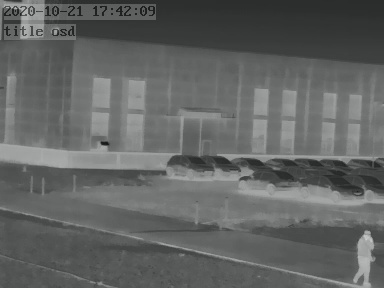person: (353, 230, 376, 286)
vehicle: (301, 170, 361, 199), (237, 169, 303, 193), (165, 153, 212, 179), (204, 153, 242, 177), (351, 173, 383, 200), (233, 154, 269, 171), (347, 155, 380, 170), (261, 155, 296, 169), (317, 156, 348, 170), (296, 155, 325, 169)
